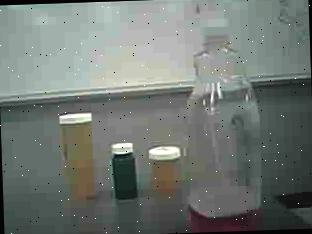Bottle A: (54, 100, 103, 206)
Bottle B: (147, 137, 185, 201)
Bottle C: (106, 137, 142, 205)
hazard: (172, 0, 269, 233)
